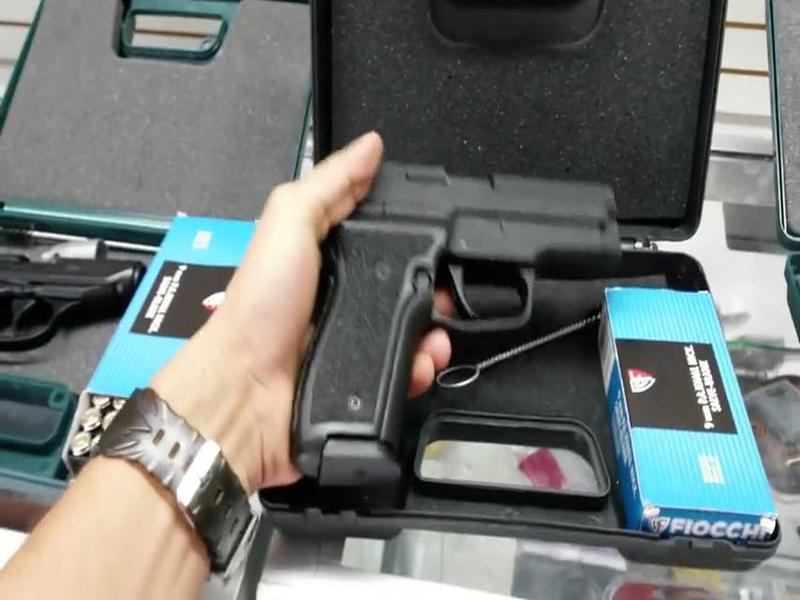Pistola: (247, 152, 654, 511)
